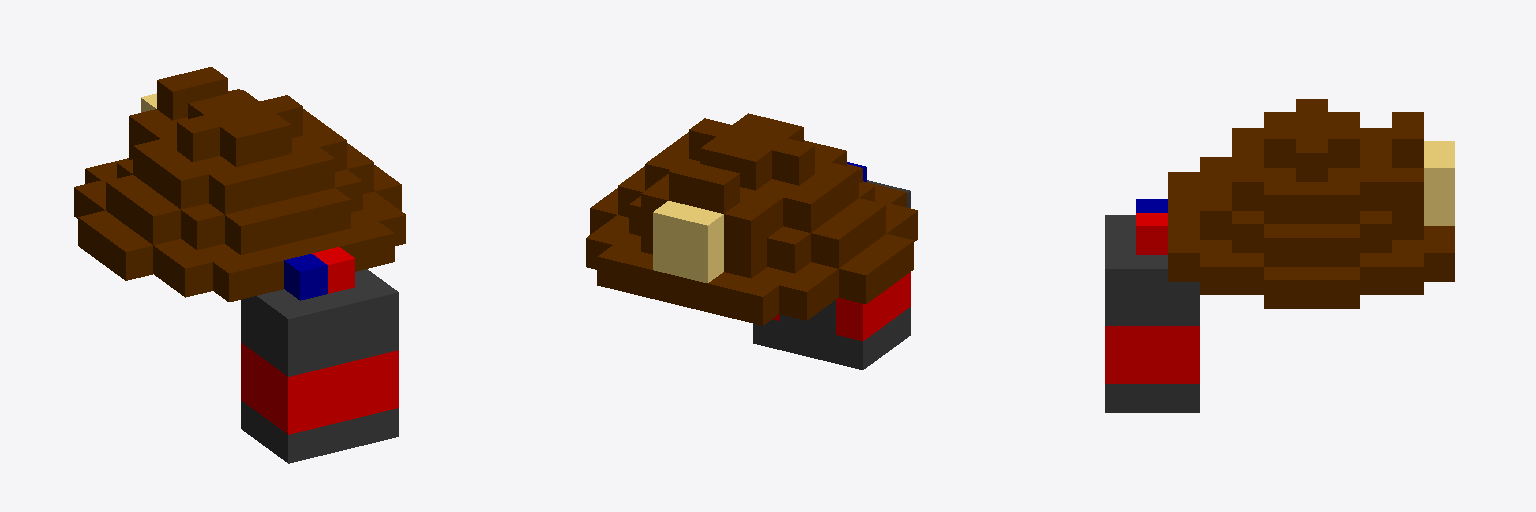
3 views of the same model, side by side, from view 1: azimuth 30°, elevation 25°; view 2: azimuth 150°, elevation 25°; view 3: azimuth 270°, elevation 25° (orthographic).
Parts seen in each view (by area): view 1: object 1; view 2: object 1; view 3: object 1.
Part boxes in pixels (x1,y1,x2,y2): object 1: (74, 67, 405, 463); object 1: (586, 113, 917, 369); object 1: (1105, 99, 1454, 412).
Size of the model in its own units: 1 by 0.9 by 1.1.
Materials: 1 (1 with a texture image).